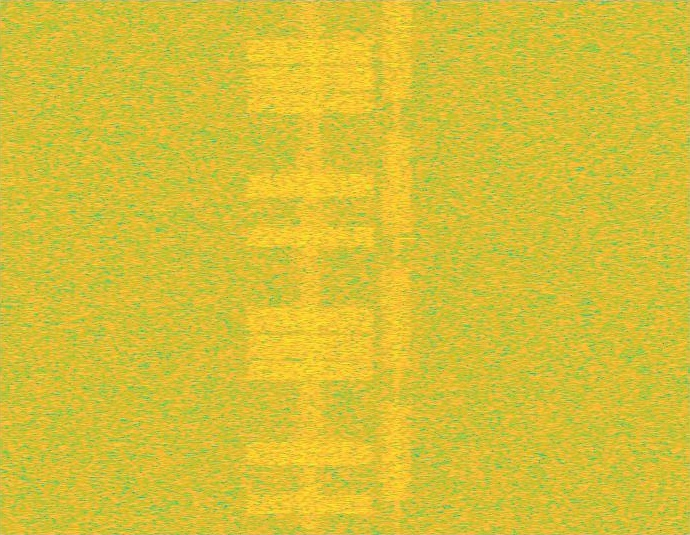5G: (379, 0, 414, 534)
DSSS: (295, 0, 326, 534), (393, 0, 401, 534)
LTE: (241, 0, 379, 534)
Radar: (400, 0, 414, 534)
